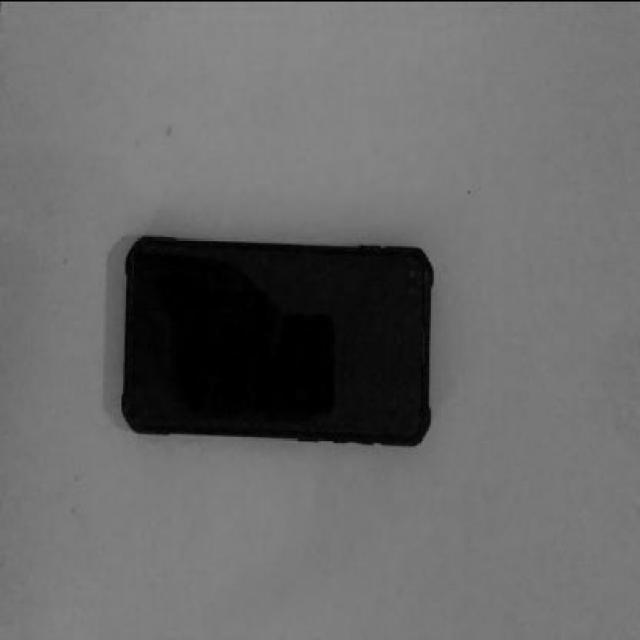fake: (119, 232, 436, 446)
